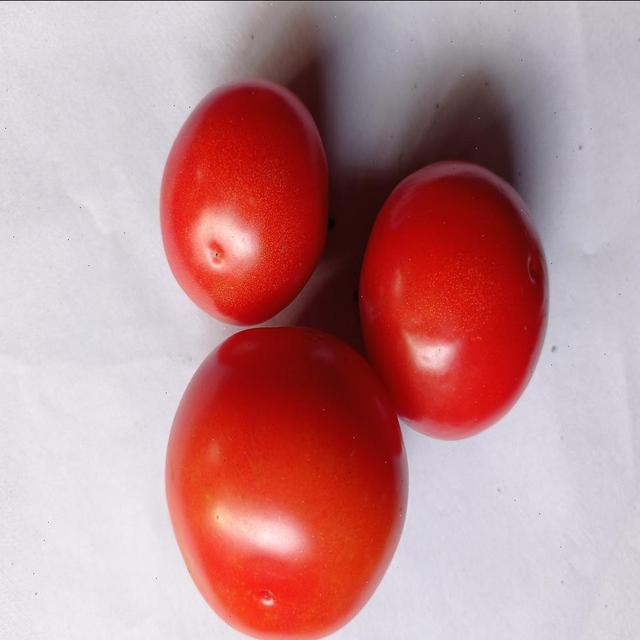Healthy Fruit: (120, 133, 302, 319)
